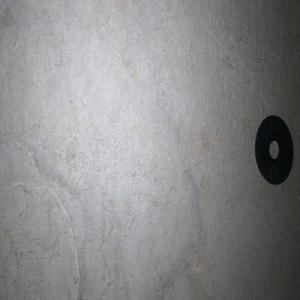Washer: (254, 114, 293, 184)
